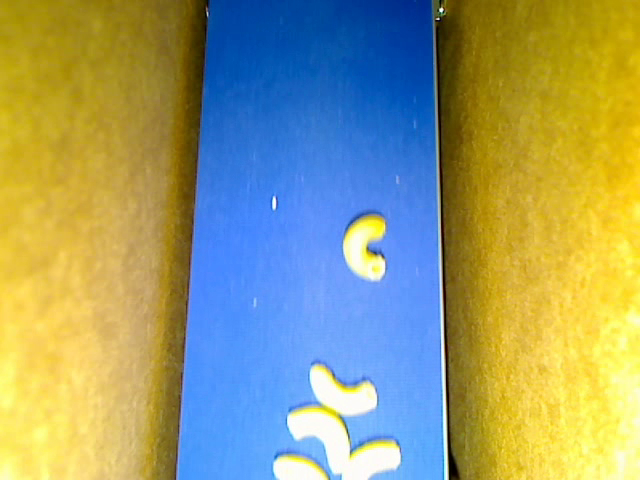elbow: (286, 406, 348, 473), (308, 362, 376, 416), (342, 212, 386, 281), (341, 437, 401, 479), (272, 454, 330, 479)
